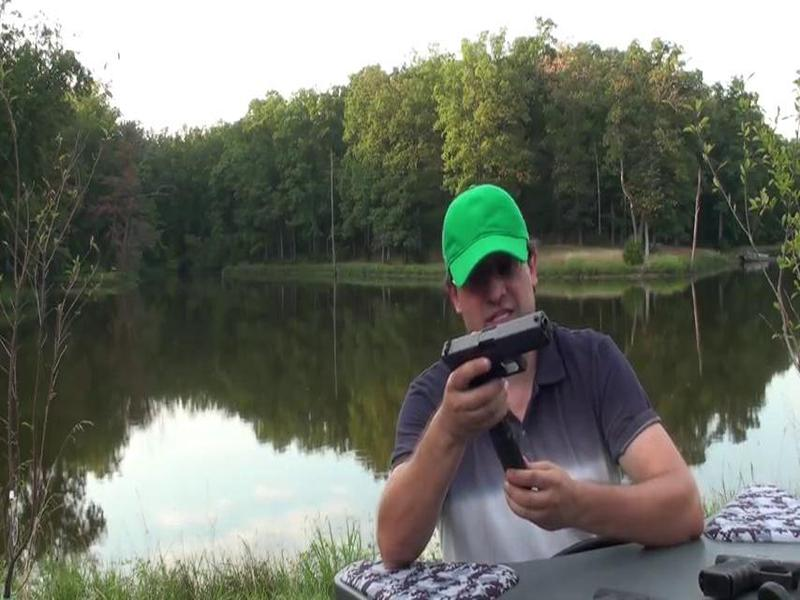Pistola: (433, 284, 564, 424)
